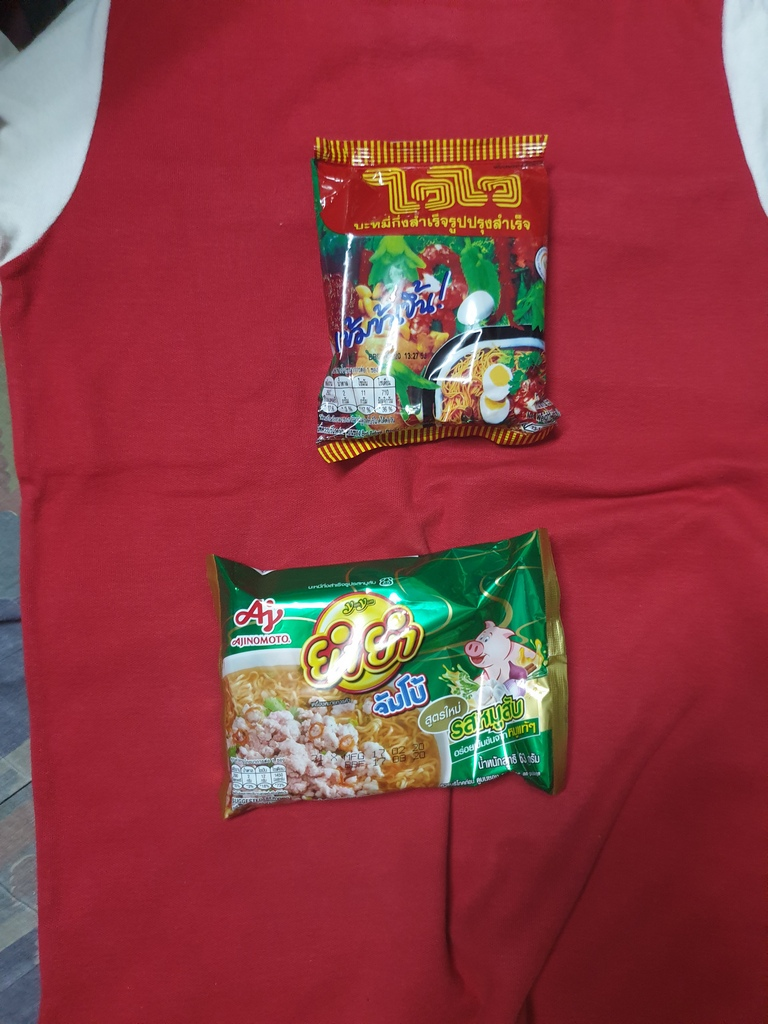waiwai: (307, 134, 567, 448)
yumyum: (209, 553, 572, 798)
